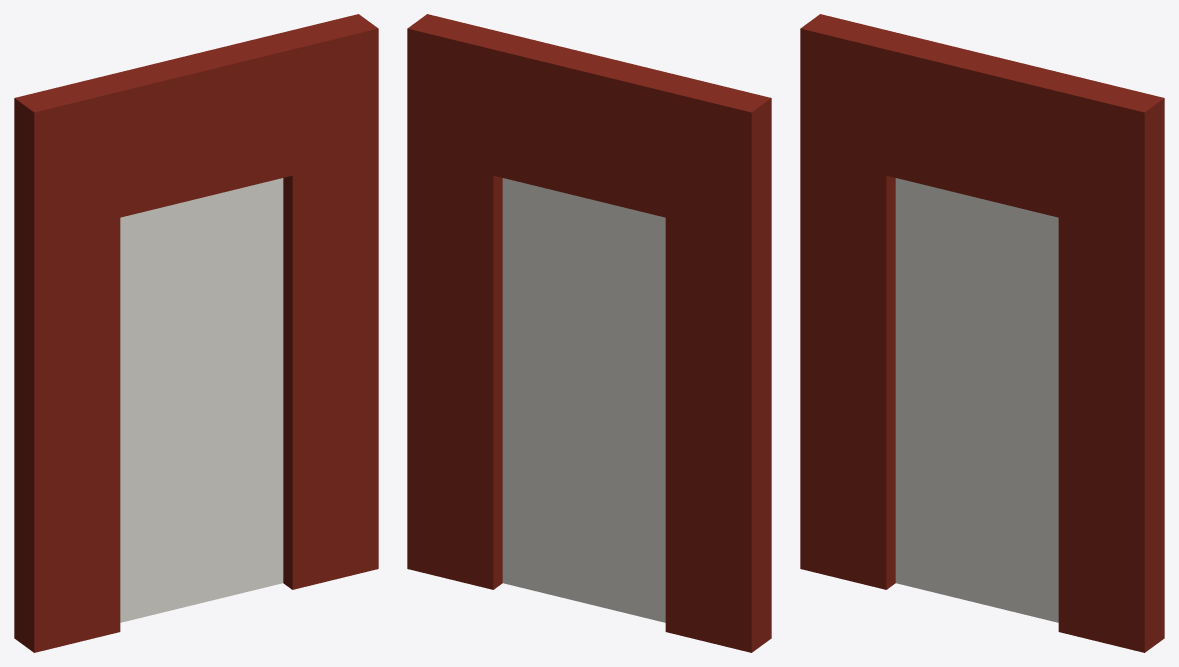
Rendered from wall_door.glb.
3 views of the same model, side by side, from view 1: azimuth 30°, elevation 25°; view 2: azimuth 150°, elevation 25°; view 3: azimuth 330°, elevation 25° (orthographic).
Parts seen in each view (by area): view 1: DoorOpening, Door; view 2: DoorOpening, Door; view 3: DoorOpening, Door.
Boxes of the visible parts, <box> form: DoorOpening: <box>14,14,378,652</box>; Door: <box>120,178,283,622</box>; DoorOpening: <box>407,14,771,652</box>; Door: <box>502,178,665,622</box>; DoorOpening: <box>800,14,1164,652</box>; Door: <box>895,178,1058,622</box>.
Size of what is drawn, in the model's own units: 2 by 3 by 0.2.
Materials: 1 (1 with a texture image).
